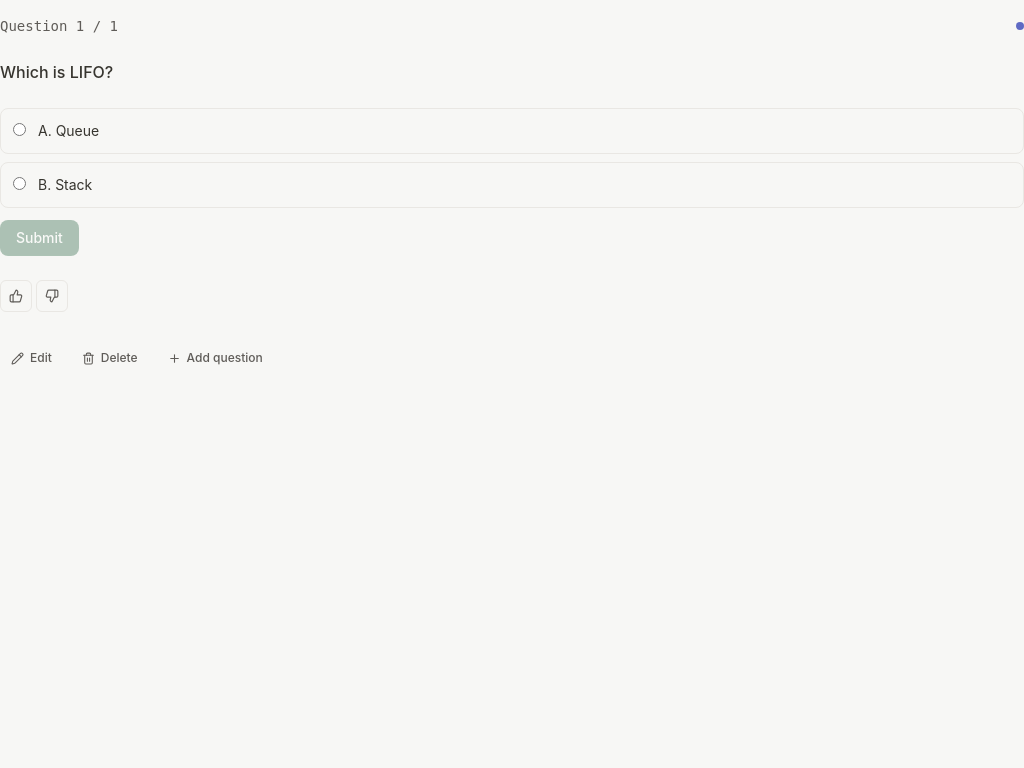
Test: quiz editing › blocks a multiple-choice question without a marked correct option
Check: the text "Which is LIFO?" is shown, box [0,62,113,82]
Click the button "Add question" at (215, 358), box [157,336,274,380]
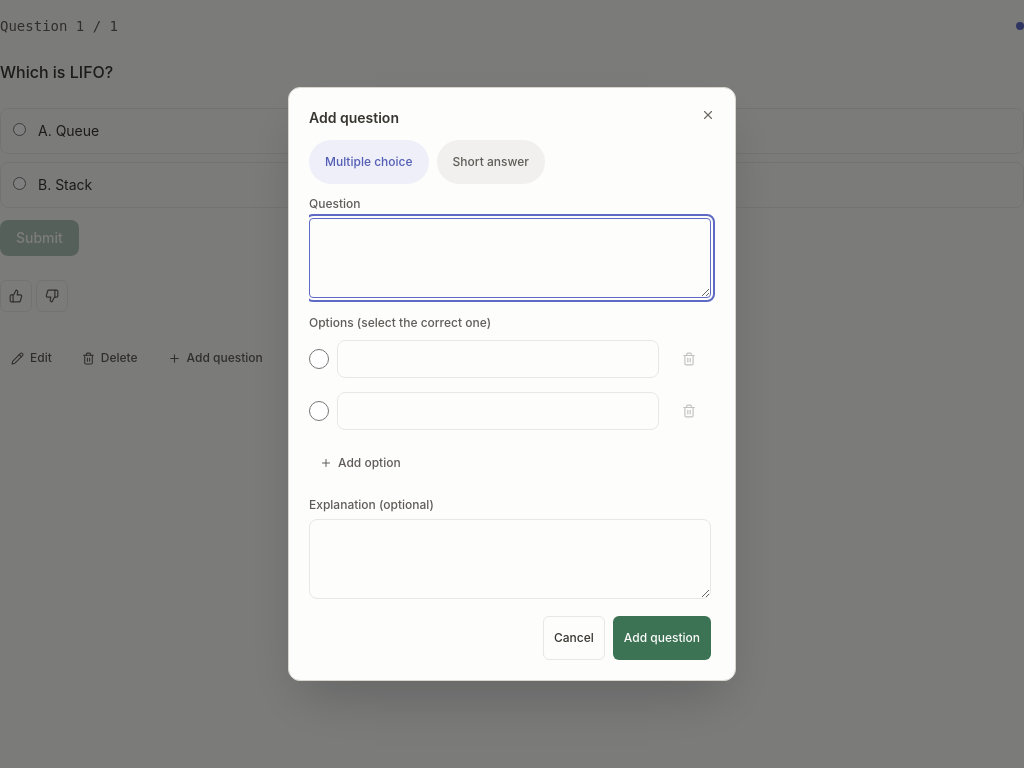
Type "New one?" into the text box labelled "Question" at (510, 258), box [309,218,711,298]
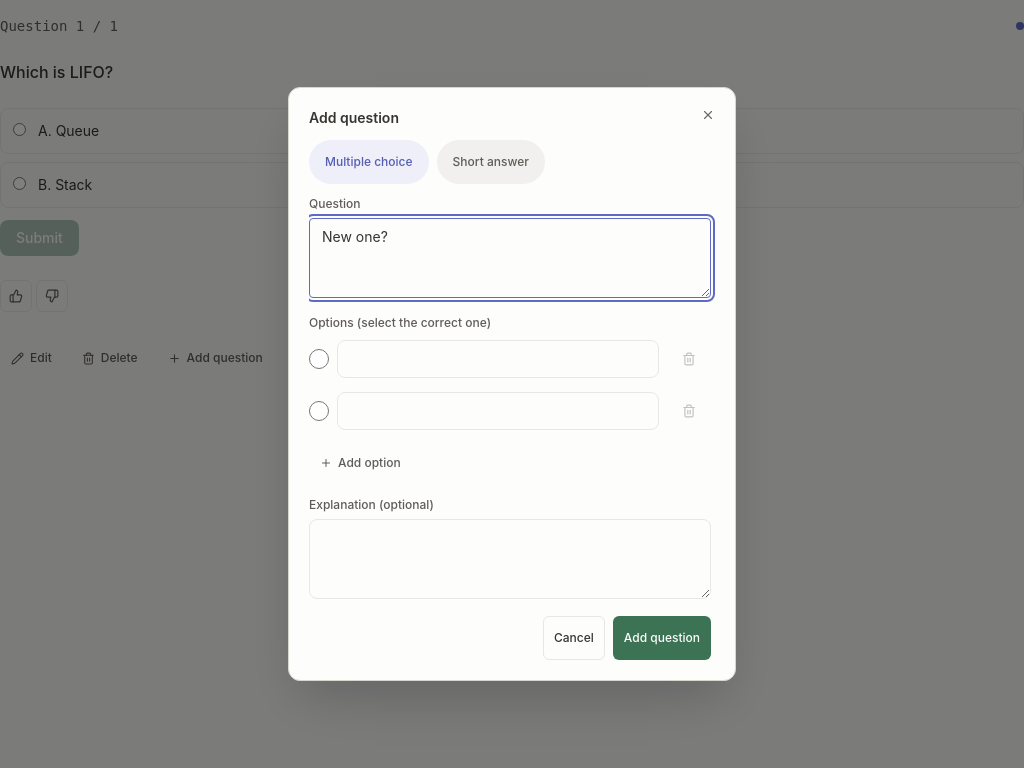
Type "x" into the field named "Option 1" at (498, 359), box [337,340,659,378]
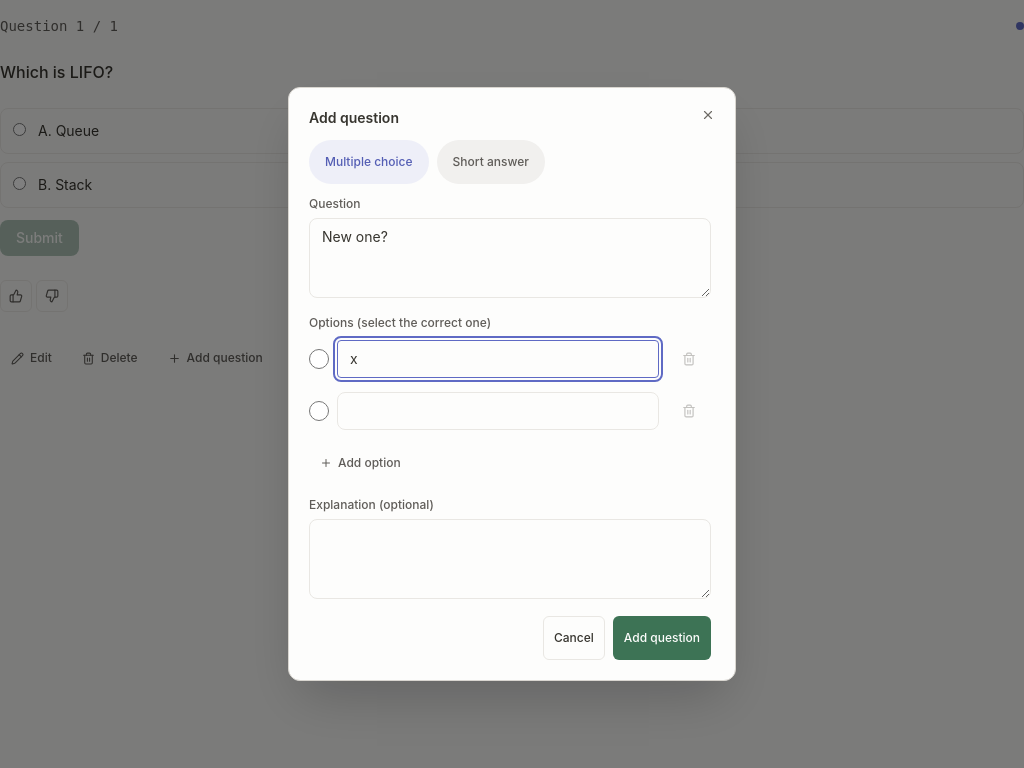
Type "y" into the field named "Option 2" at (498, 411), box [337,392,659,430]
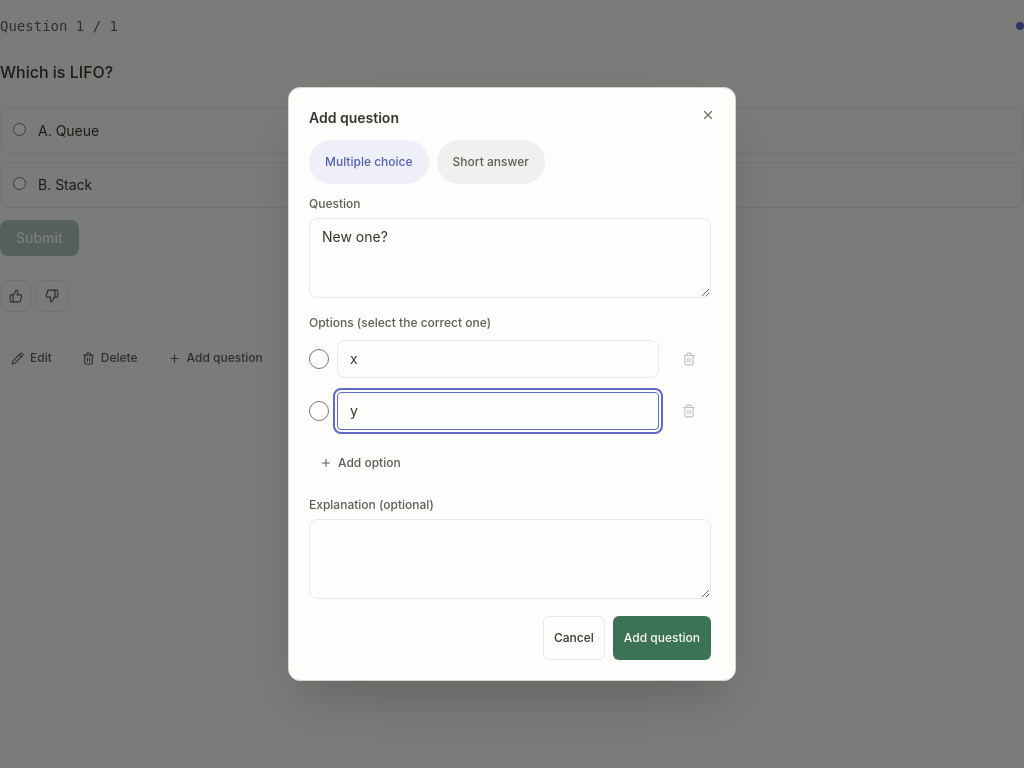
Click the button "Add question" at (662, 638), box [613,616,711,660]
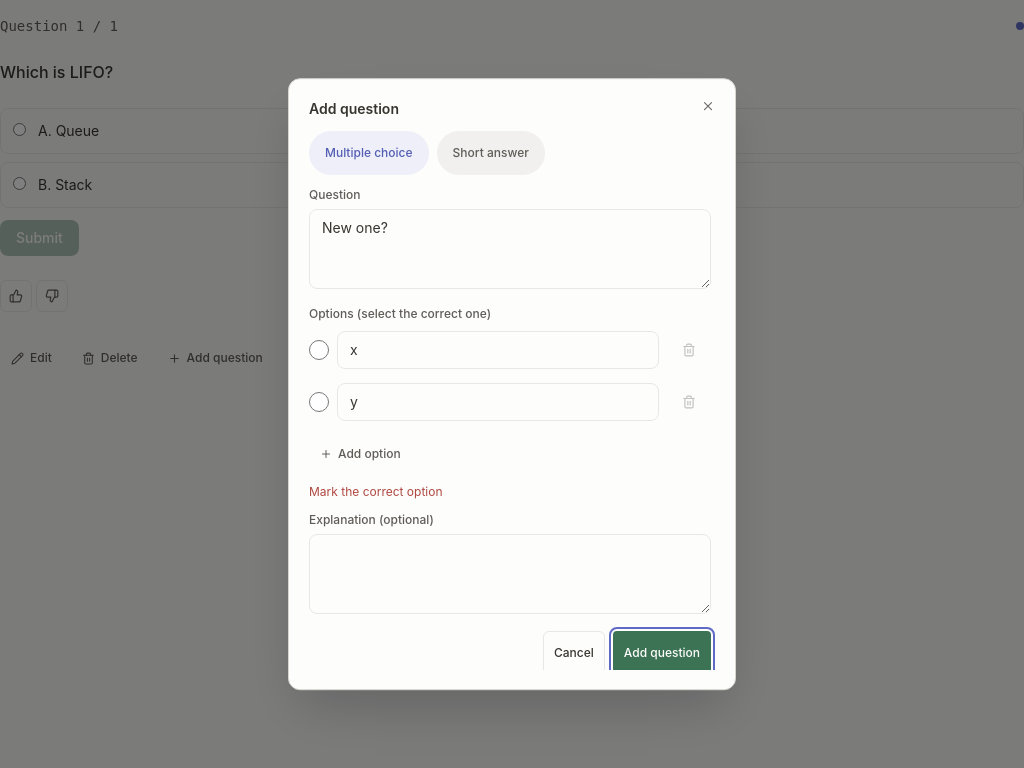
Check: the text "Mark the correct option" is shown, box [309,484,442,499]
